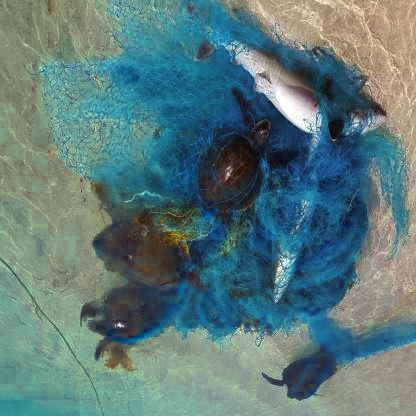net: (107, 48, 361, 338)
